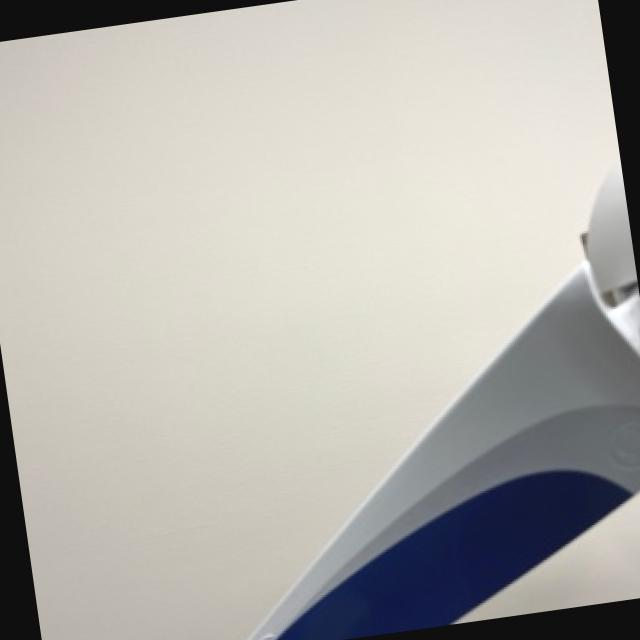healthy: (246, 162, 640, 640)
